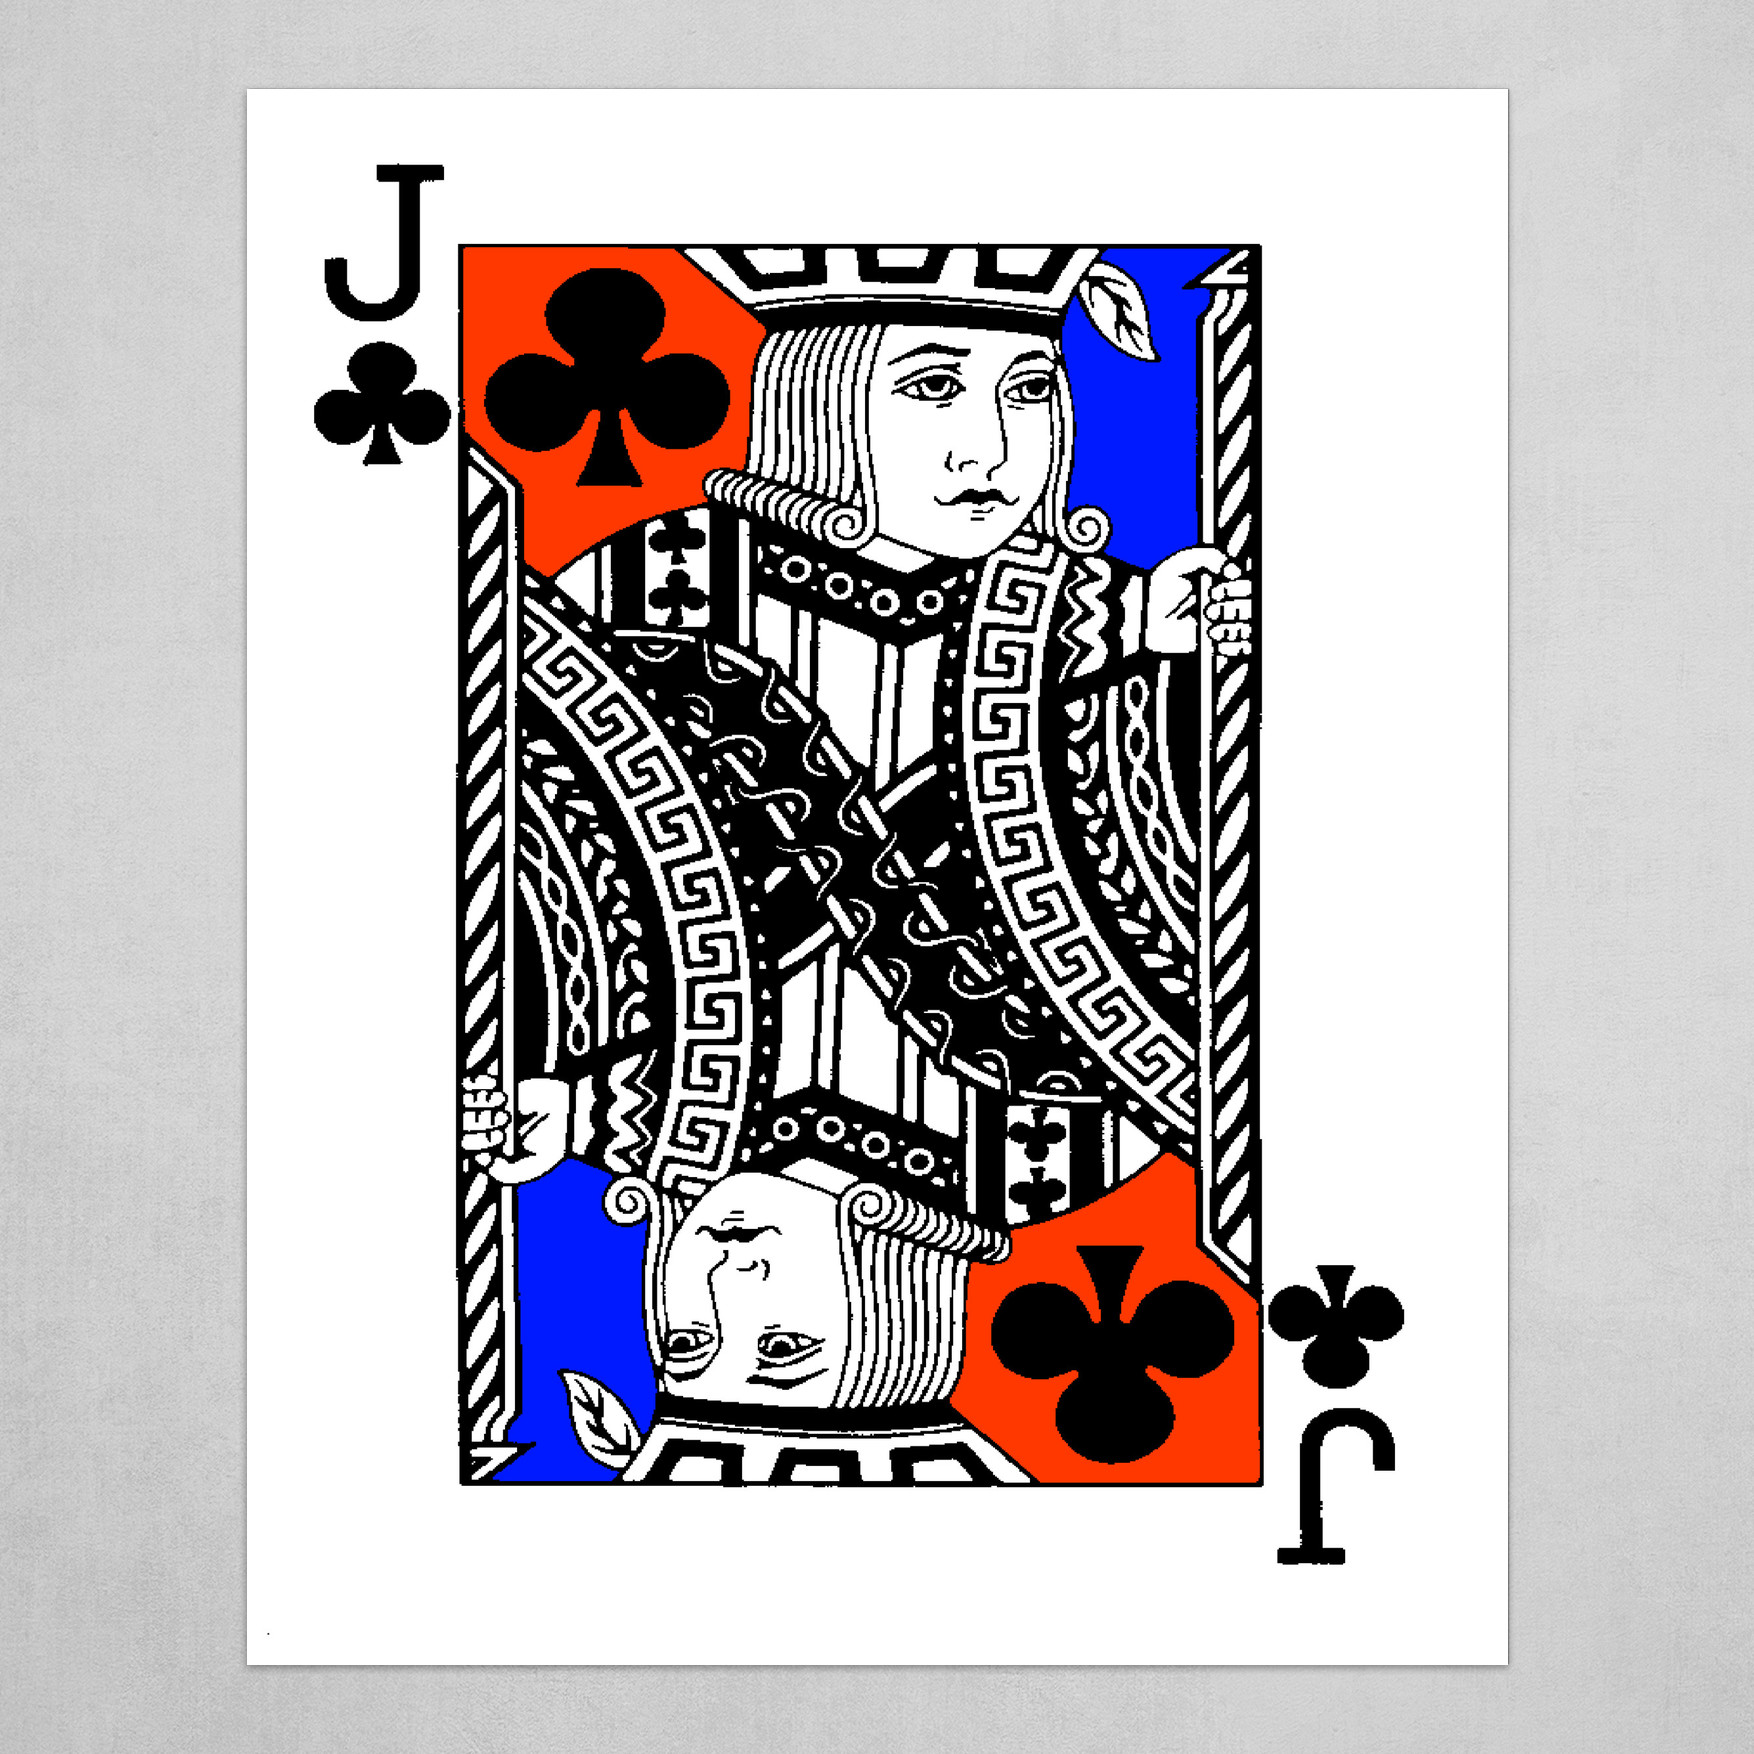jack of clubs: (290, 141, 1471, 1607)
